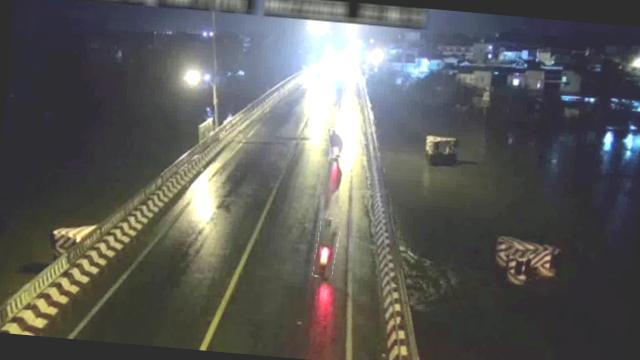Bike: (314, 218, 341, 278), (327, 128, 346, 160)
